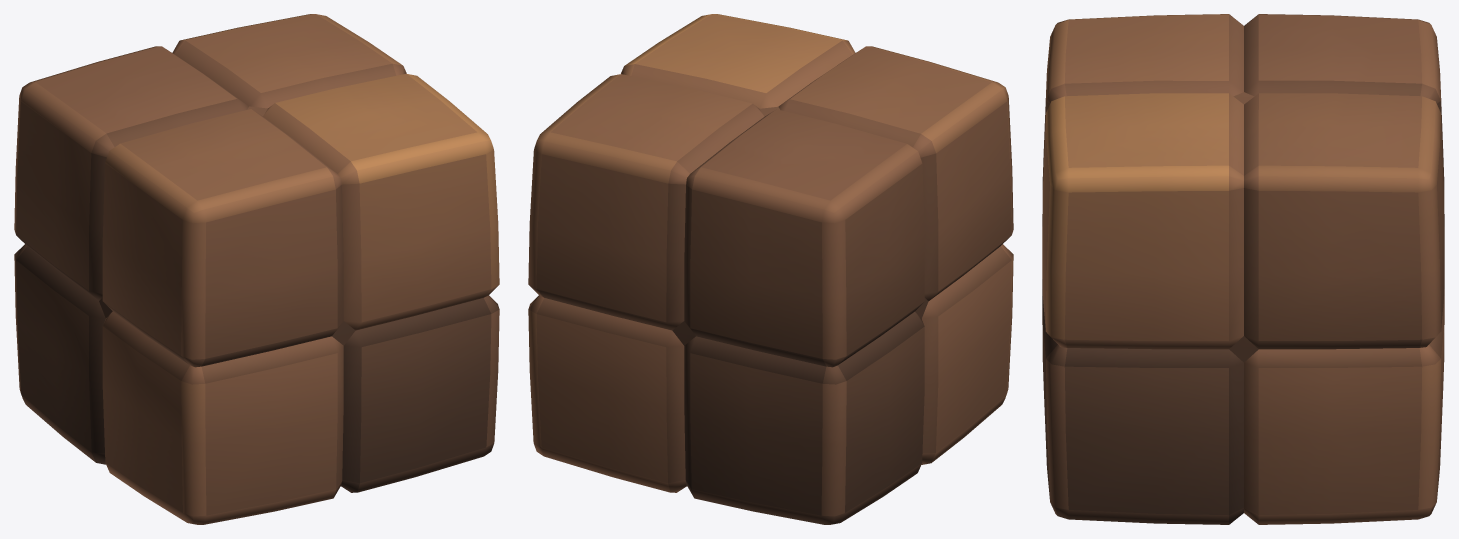
File: block_brick_brown_4.fbx
The picture shows the model from 3 angles, left to right: view 1: azimuth 30°, elevation 25°; view 2: azimuth 150°, elevation 25°; view 3: azimuth 270°, elevation 25°; orthographic projection. The views are drawn at different scales.
Visible parts, largest first — view 1: block_brick_brown_4_LOD0; view 2: block_brick_brown_4_LOD0; view 3: block_brick_brown_4_LOD0.
Boxes of the visible parts, x1,y1,x2,y2 form: block_brick_brown_4_LOD0: (14, 14, 499, 524); block_brick_brown_4_LOD0: (528, 14, 1013, 524); block_brick_brown_4_LOD0: (1042, 14, 1444, 524).
Size of what is drawn, in the model's own units: 108 by 108 by 108.
